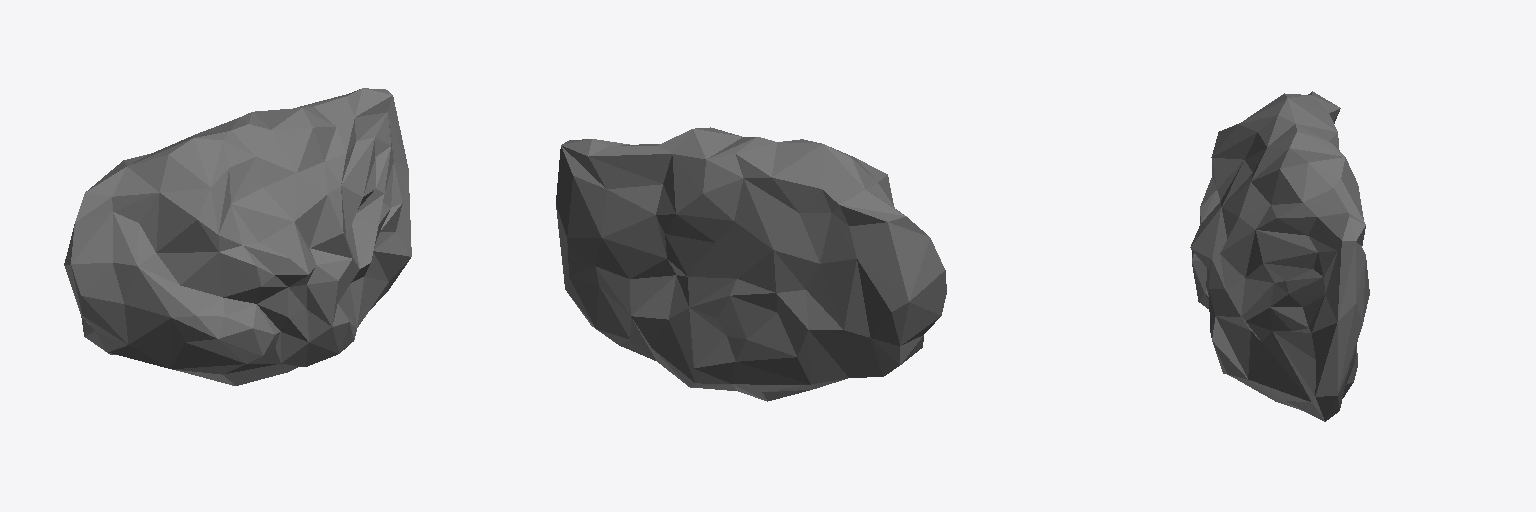
File: Meat_2.obj
3 renders of one model, left to right at view 1: azimuth 30°, elevation 25°; view 2: azimuth 150°, elevation 25°; view 3: azimuth 270°, elevation 25°, orthographic.
Parts seen in each view (by area): view 1: Meat_2_low_Meat_2_low; view 2: Meat_2_low_Meat_2_low; view 3: Meat_2_low_Meat_2_low.
Part boxes in pixels (bbox=[...]): Meat_2_low_Meat_2_low: bbox=[64, 88, 411, 385]; Meat_2_low_Meat_2_low: bbox=[556, 127, 946, 401]; Meat_2_low_Meat_2_low: bbox=[1190, 91, 1369, 421].
Size of the model in its own units: 1.88 by 1.28 by 0.8075.